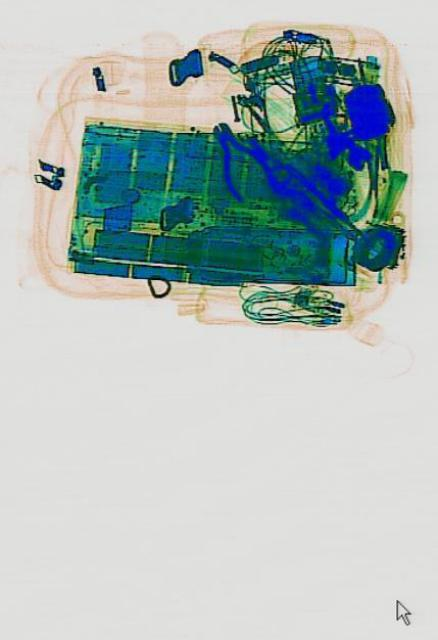Pliers: (199, 105, 269, 205)
